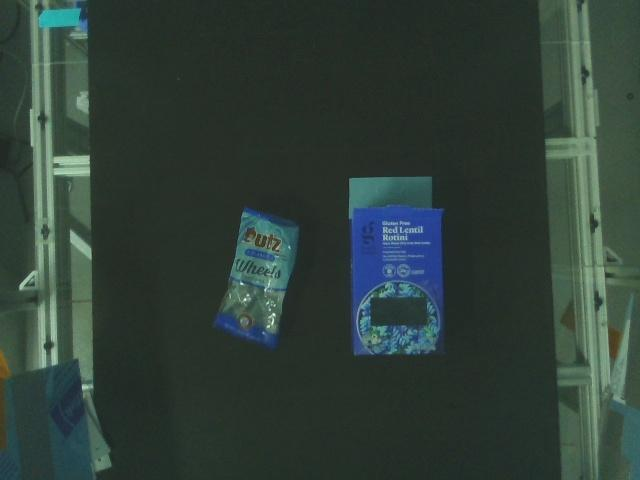cardboard: (344, 174, 449, 358)
plastic: (212, 204, 301, 353)
